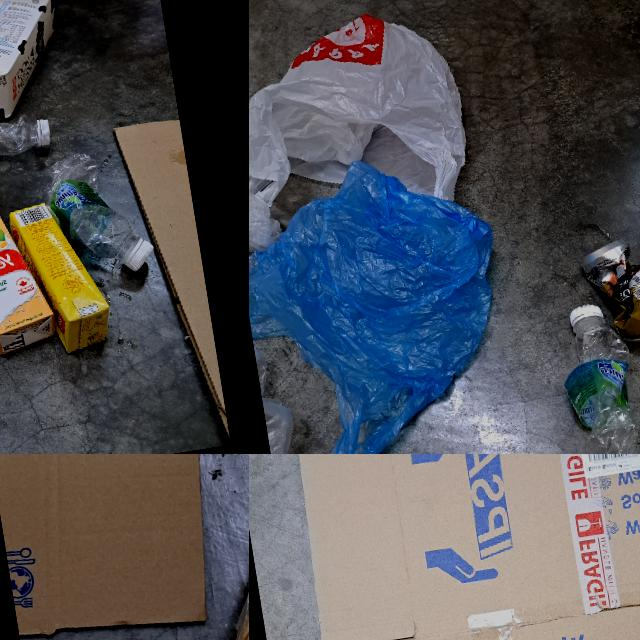caixinha: (9, 194, 116, 360), (0, 0, 74, 129), (0, 206, 60, 360)
garrafa plástica: (44, 146, 143, 272), (551, 318, 640, 454), (0, 112, 50, 213)
lata: (583, 238, 640, 344)
papelão: (271, 454, 640, 640), (0, 454, 249, 640), (111, 116, 231, 454), (156, 454, 249, 640)
sacola plástica: (249, 151, 522, 454), (249, 8, 481, 247)
tampa plástica: (124, 239, 159, 272), (38, 119, 52, 147)
